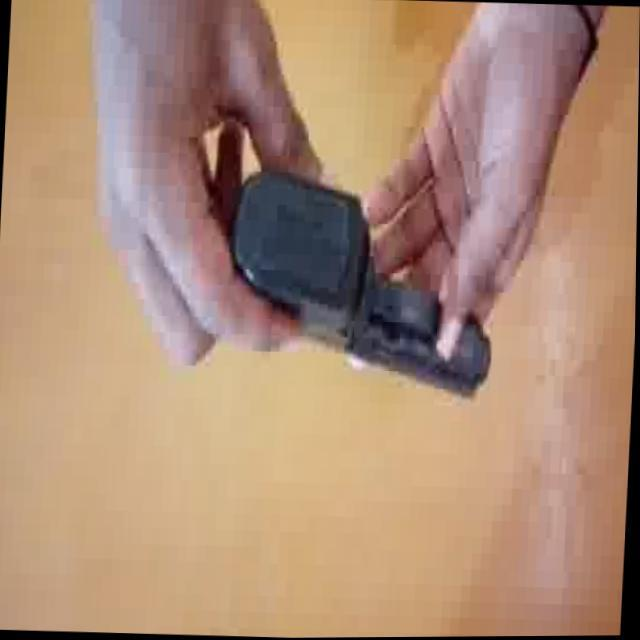weapon: (186, 113, 504, 390)
